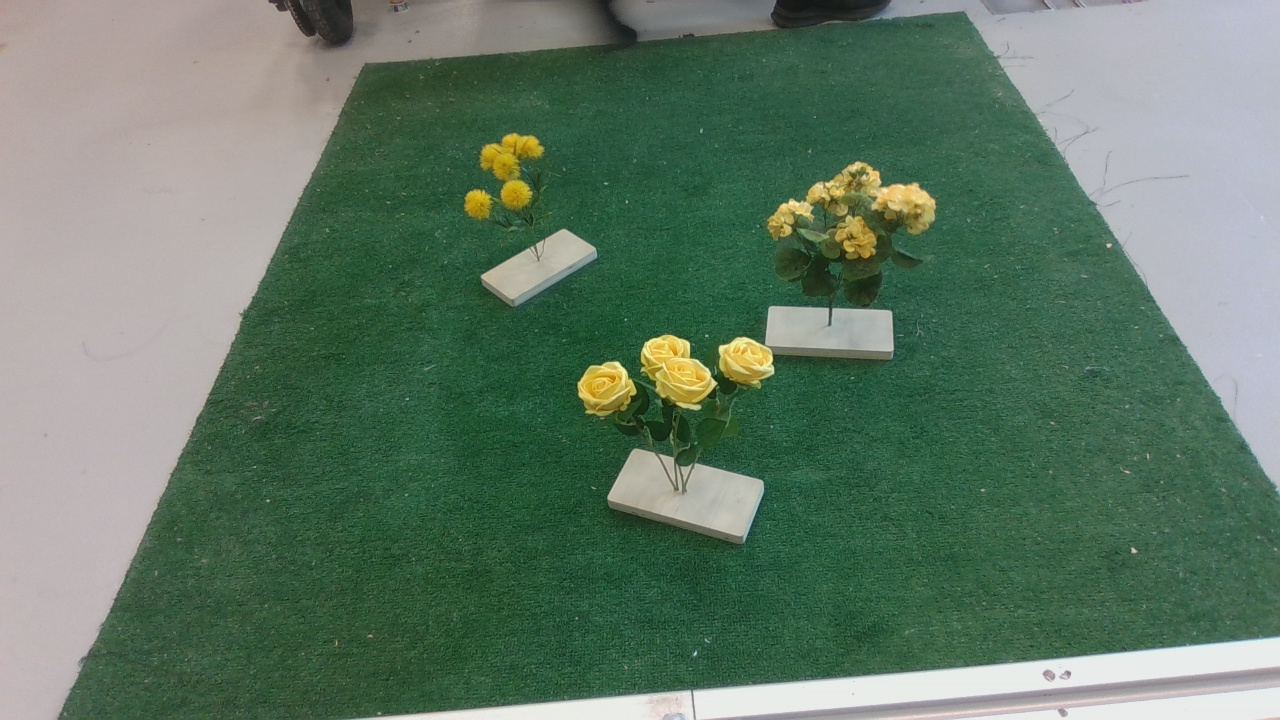dandelion: (466, 128, 560, 239)
geranium: (768, 159, 954, 305)
rose: (577, 339, 788, 459)
